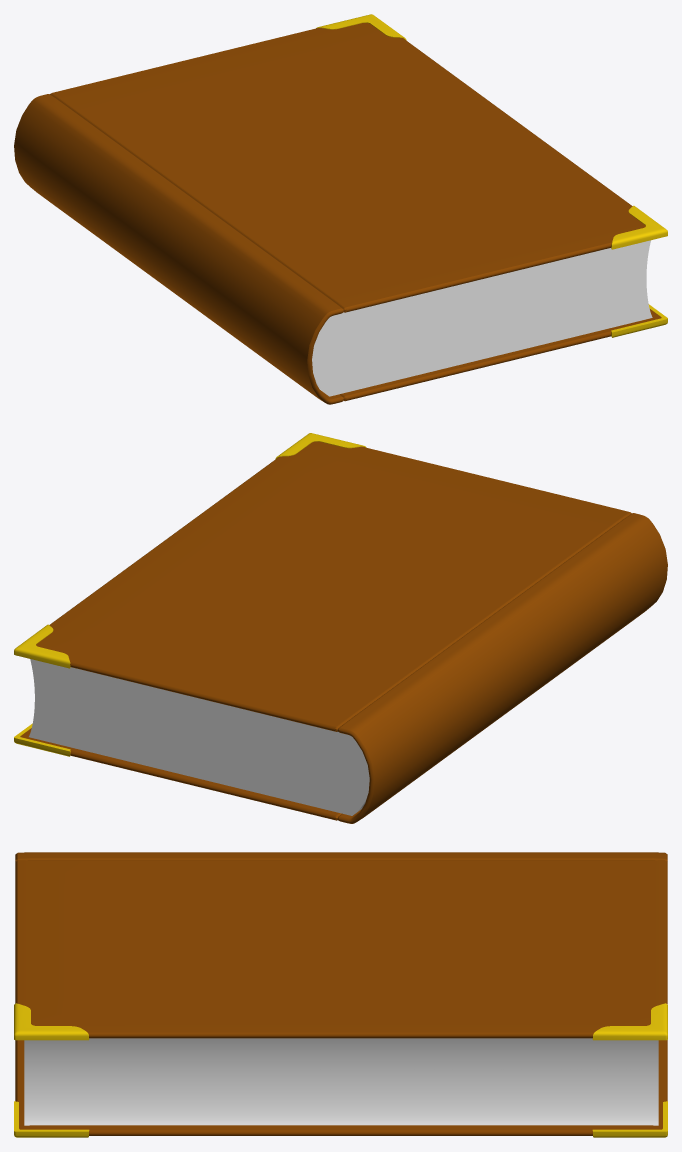
The model's file is Book.FBX.
3 renders of one model, top to bottom at view 1: azimuth 30°, elevation 25°; view 2: azimuth 150°, elevation 25°; view 3: azimuth 270°, elevation 25°, orthographic. The views are drawn at different scales.
Parts seen in each view (by area): view 1: Line043, Line038, Line041, Line042; view 2: Line043, Line038, Line042, Line041; view 3: Line043, Line038, Line041, Line042, Line039, Line040.
Part boxes in pixels (x1,y1,x2,y2): Line043: [14, 23, 661, 404]; Line038: [312, 240, 652, 396]; Line041: [611, 205, 667, 249]; Line042: [316, 14, 406, 40]; Line043: [20, 441, 667, 823]; Line038: [29, 659, 369, 815]; Line042: [14, 624, 70, 668]; Line041: [275, 433, 366, 458]; Line043: [15, 852, 667, 1135]; Line038: [24, 1038, 658, 1125]; Line041: [14, 1003, 89, 1040]; Line042: [592, 1003, 667, 1040]; Line039: [14, 1101, 89, 1137]; Line040: [592, 1101, 667, 1137].
Size of the model in its own units: 57.55 by 14.66 by 81.93.
